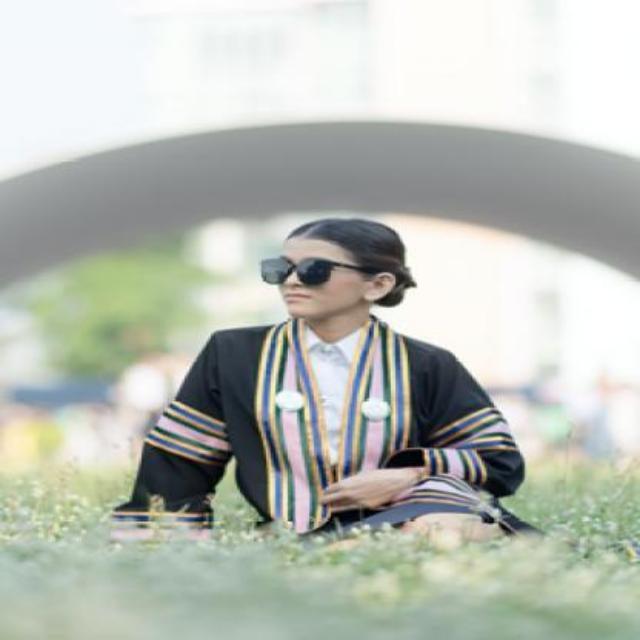glasses: (259, 256, 377, 286)
